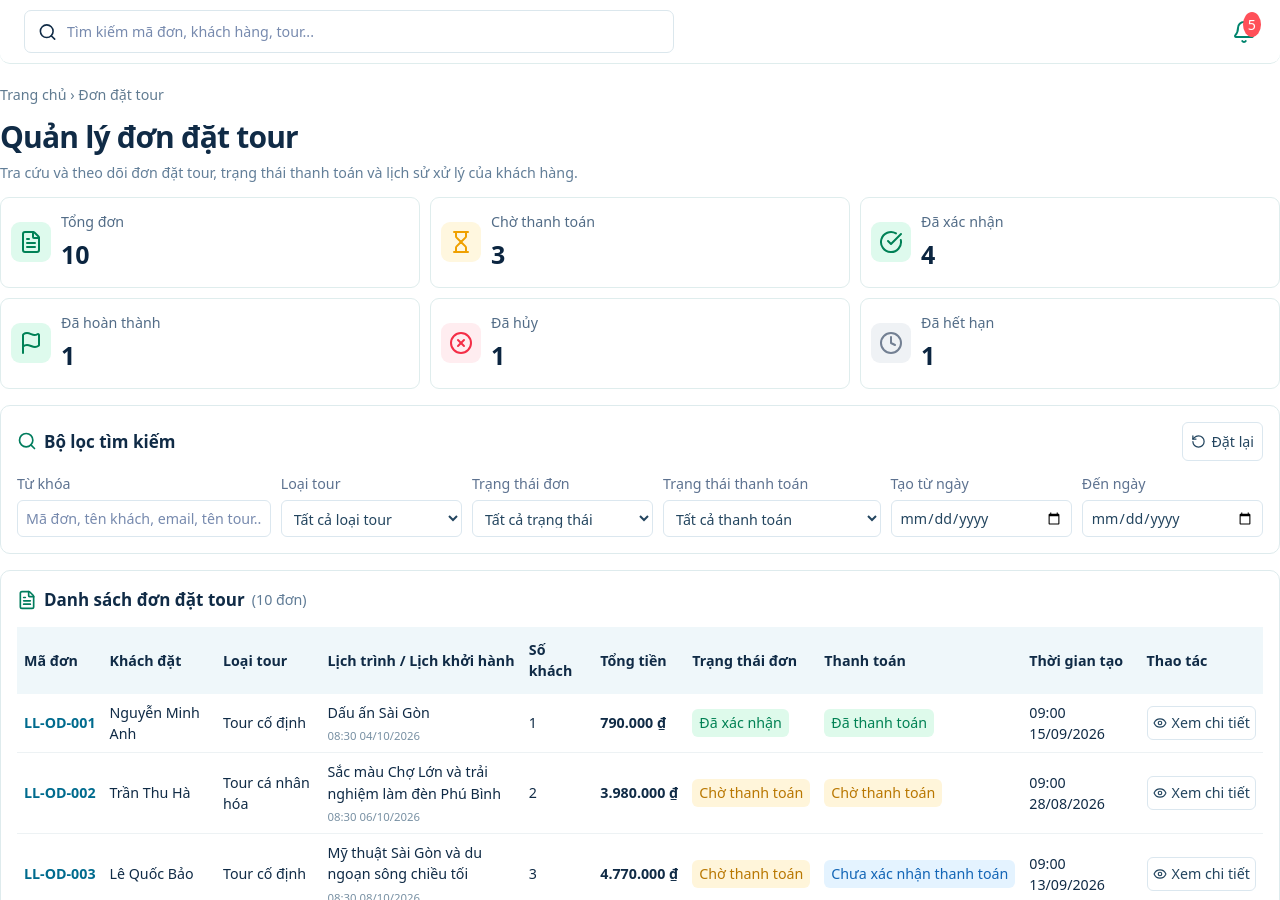
Scenario: does not leave stale detail visible after detail failure
Click the button with aria-label "Xem chi tiết LL-OD-001": (1201, 723) [1147,706,1256,740]
(page scrolled)
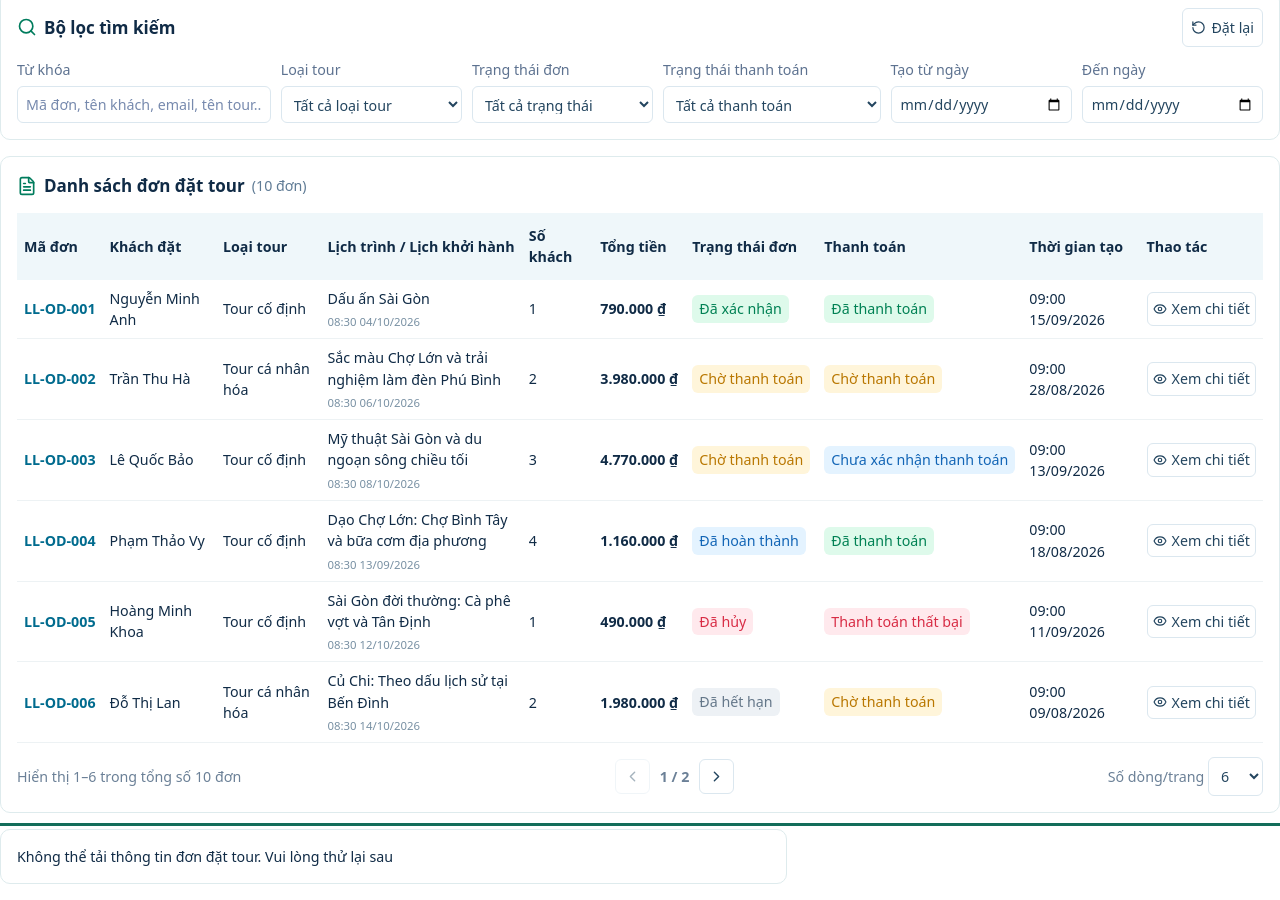
Now the message shows "Không thể tải thông tin đơn đặt tour", box [17,847,393,866]
